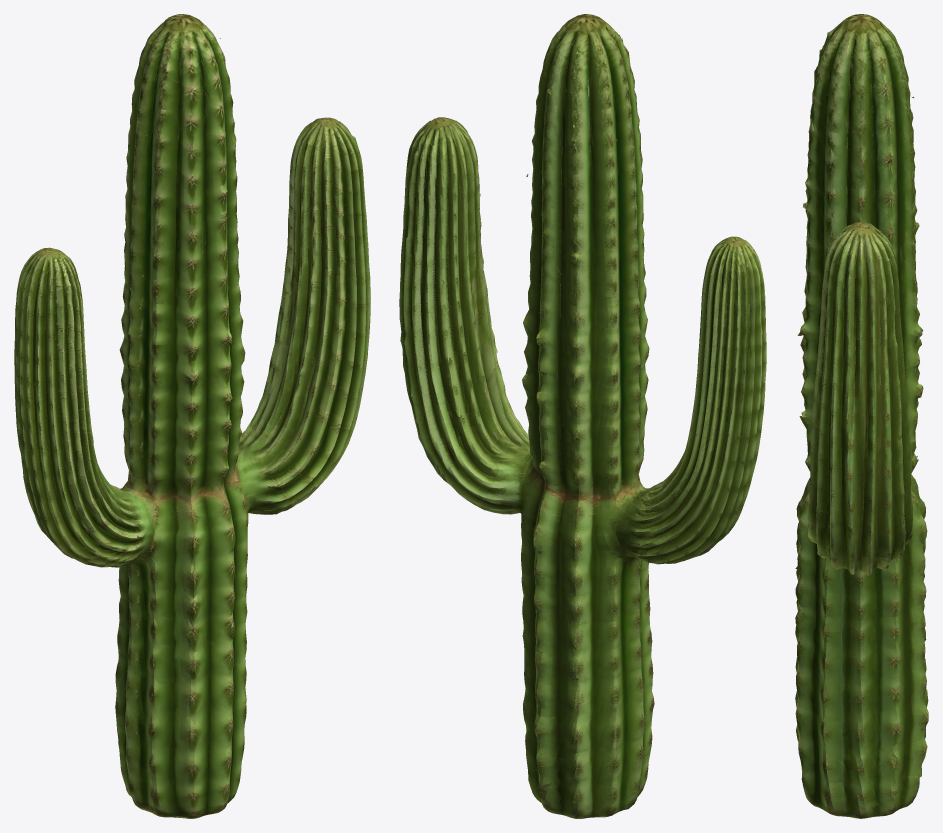
The model's file is raw_meshy_model.glb.
3 views of the same model, side by side, from view 1: azimuth 30°, elevation 25°; view 2: azimuth 150°, elevation 25°; view 3: azimuth 270°, elevation 25° (orthographic).
Size of the model in its own units: 0.8848 by 1.9 by 0.2935.
Materials: 1 (1 with a texture image).
